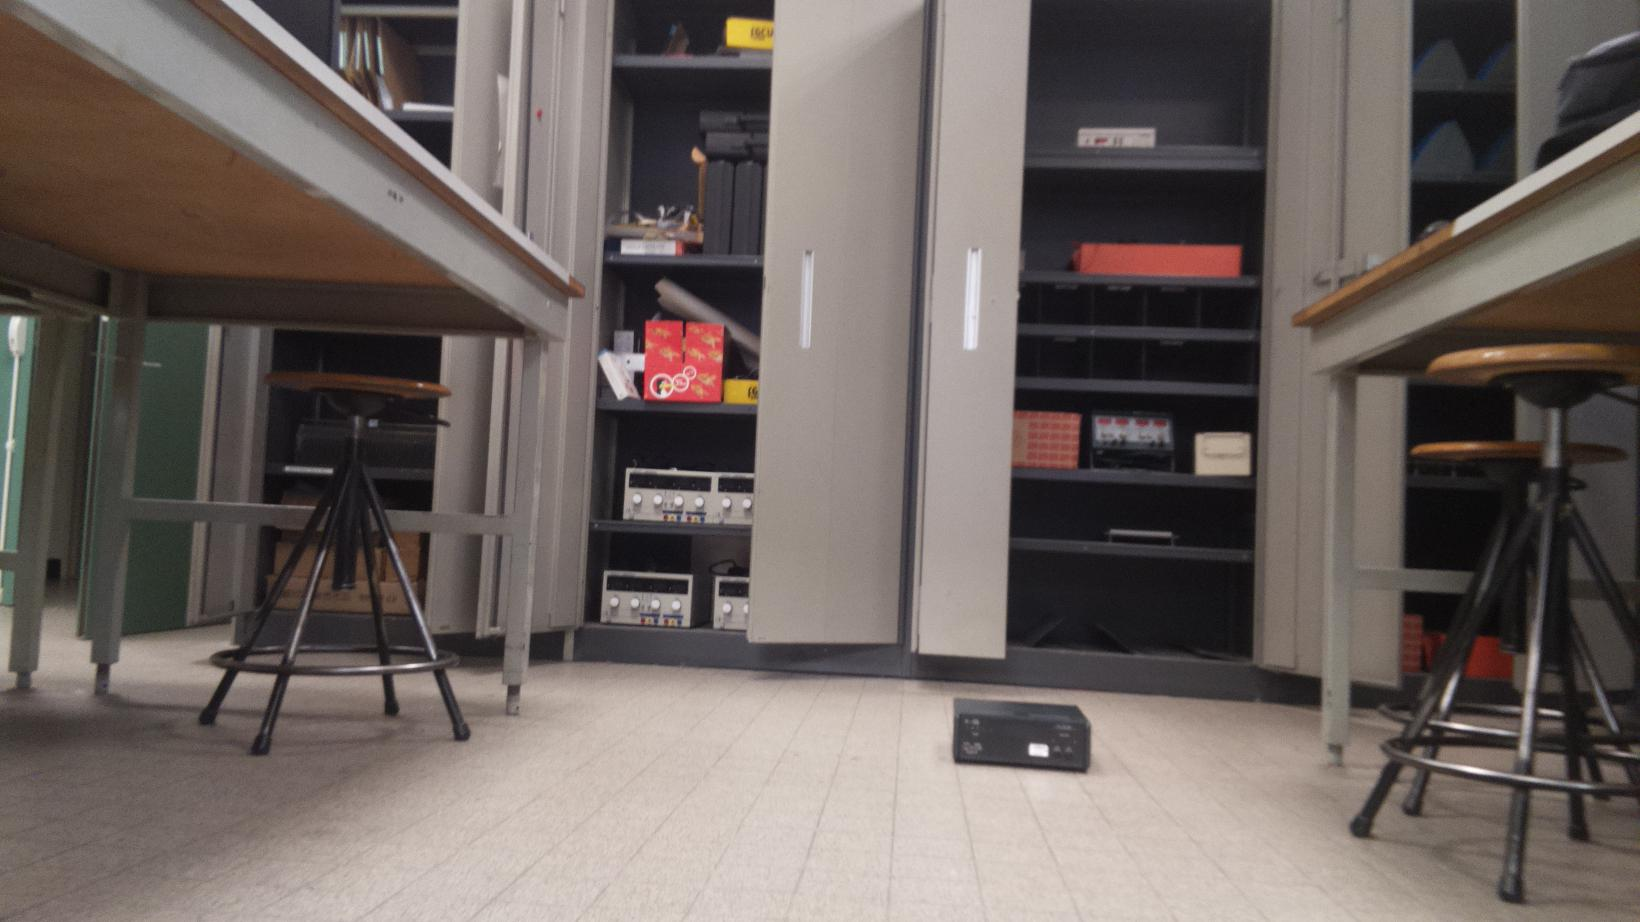medium: (948, 689, 1098, 780)
